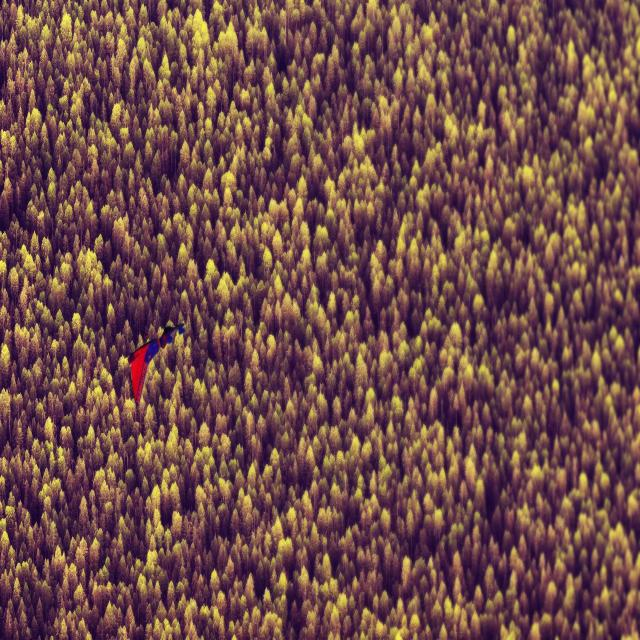airplane: (127, 320, 185, 409)
